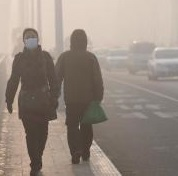person: (4, 25, 60, 176), (53, 29, 105, 164)
